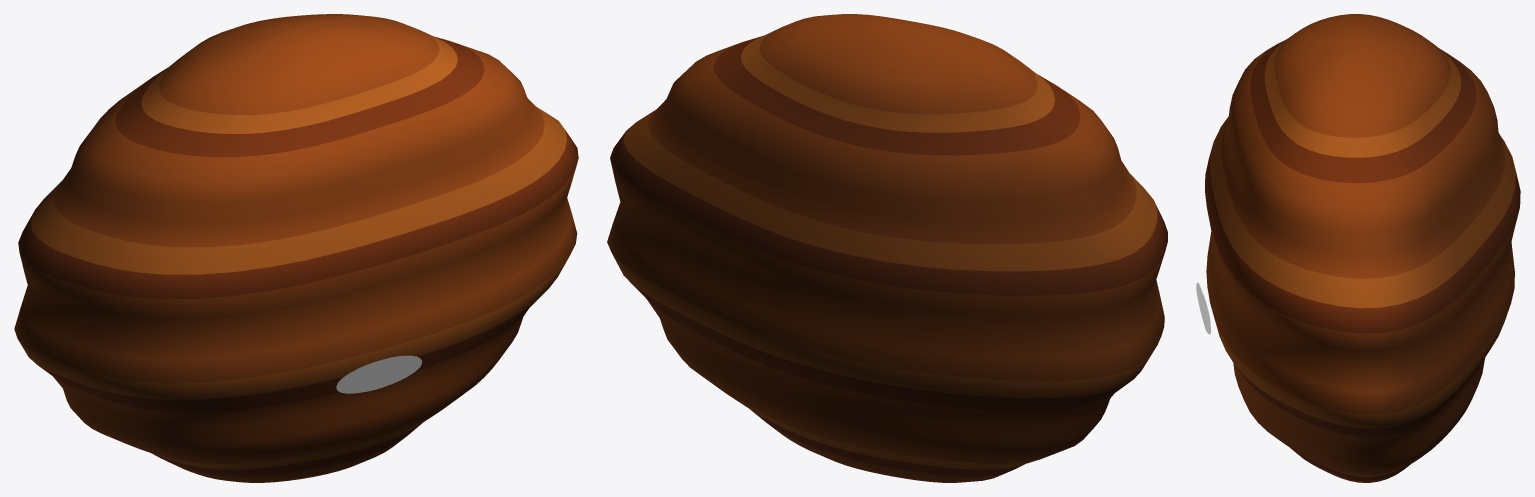
File: wild_bee_nest.fbx
3 views of the same model, side by side, from view 1: azimuth 30°, elevation 25°; view 2: azimuth 150°, elevation 25°; view 3: azimuth 270°, elevation 25° (orthographic). The views are drawn at different scales.
Parts seen in each view (by area): view 1: Continuous wax shell, Nest entrance; view 2: Continuous wax shell; view 3: Continuous wax shell, Nest entrance.
Boxes of the visible parts, x1,y1,x2,y2 form: Continuous wax shell: (14,14,578,482); Nest entrance: (336,355,421,393); Continuous wax shell: (607,14,1167,482); Continuous wax shell: (1205,14,1520,482); Nest entrance: (1196,282,1210,334).
Bounding box in the file's own units: 0.6568 × 0.5122 × 0.3671.
